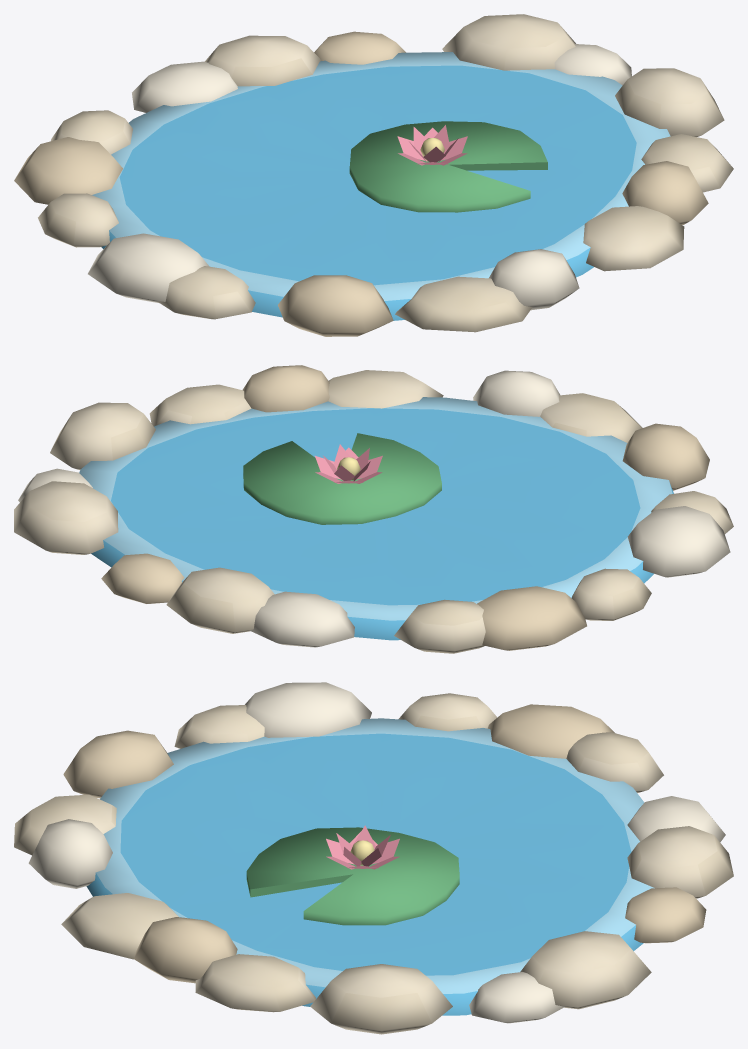
File: decor_mare.glb
The picture shows the model from 3 angles, top to bottom: view 1: azimuth 30°, elevation 25°; view 2: azimuth 150°, elevation 25°; view 3: azimuth 270°, elevation 25°; orthographic projection. The views are drawn at different scales.
Visible parts, largest first — view 1: decor_mare; view 2: decor_mare; view 3: decor_mare.
Boxes of the visible parts, left/top/right/bottom form: decor_mare: left=14, top=14, right=733, bottom=336; decor_mare: left=14, top=365, right=733, bottom=653; decor_mare: left=14, top=682, right=733, bottom=1034.
Bounding box in the file's own units: 1.58 × 0.127 × 1.45.
Materials: 8 (1 with a texture image).
